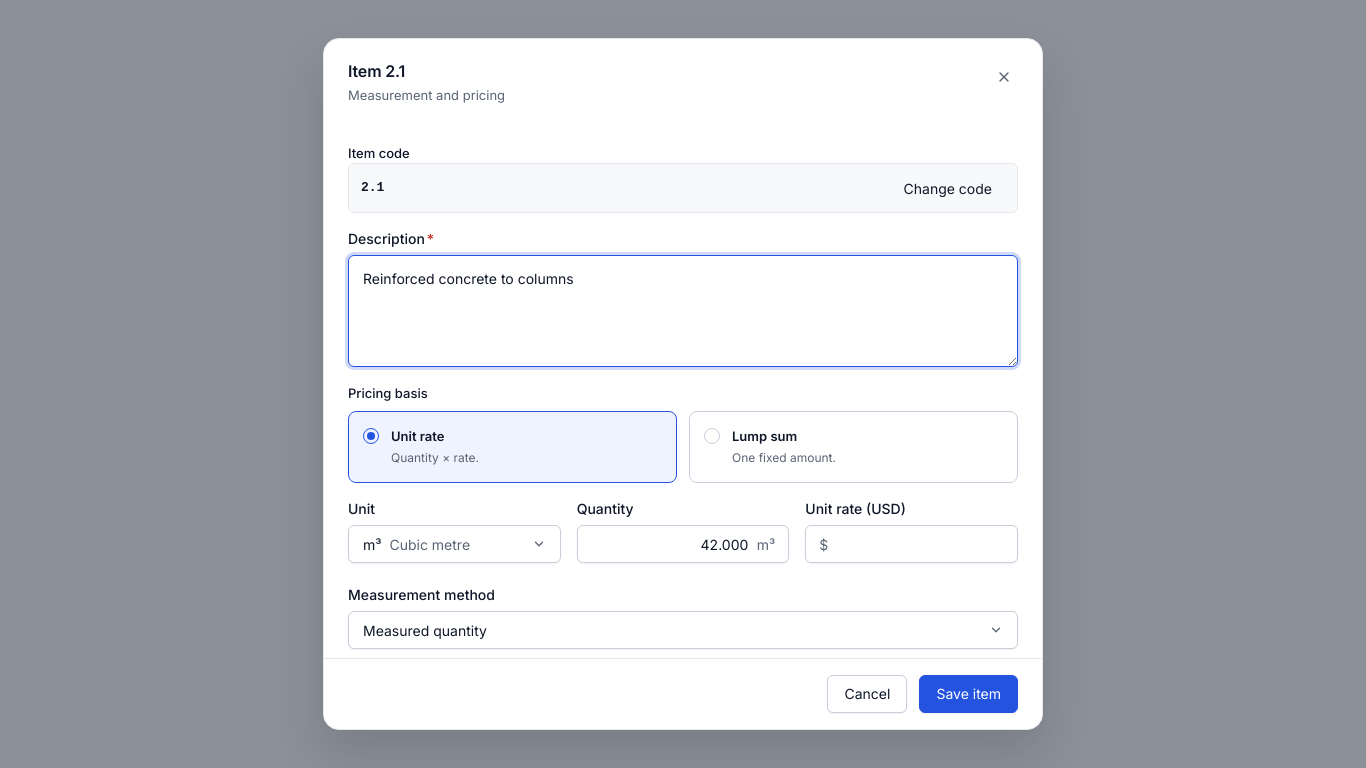
Test case: BoqItemDialog — pricing basis › omits the amount line while the rate is empty
Type "10" into the field labelled "Unit rate (USD)" at point(912, 544), box [805,525,1018,563]
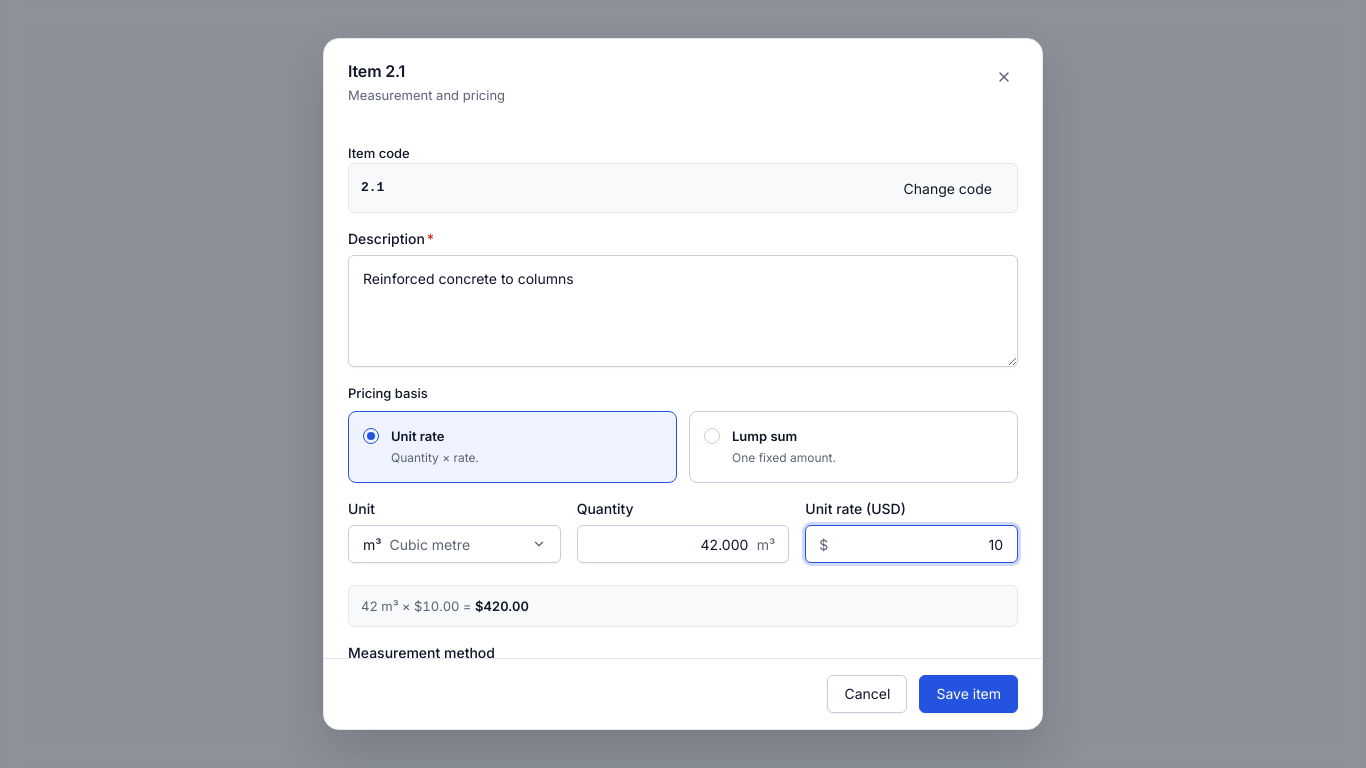
Result: the text "42 m³ × $10.00 = $420.00" is shown at [361,598,529,614]
